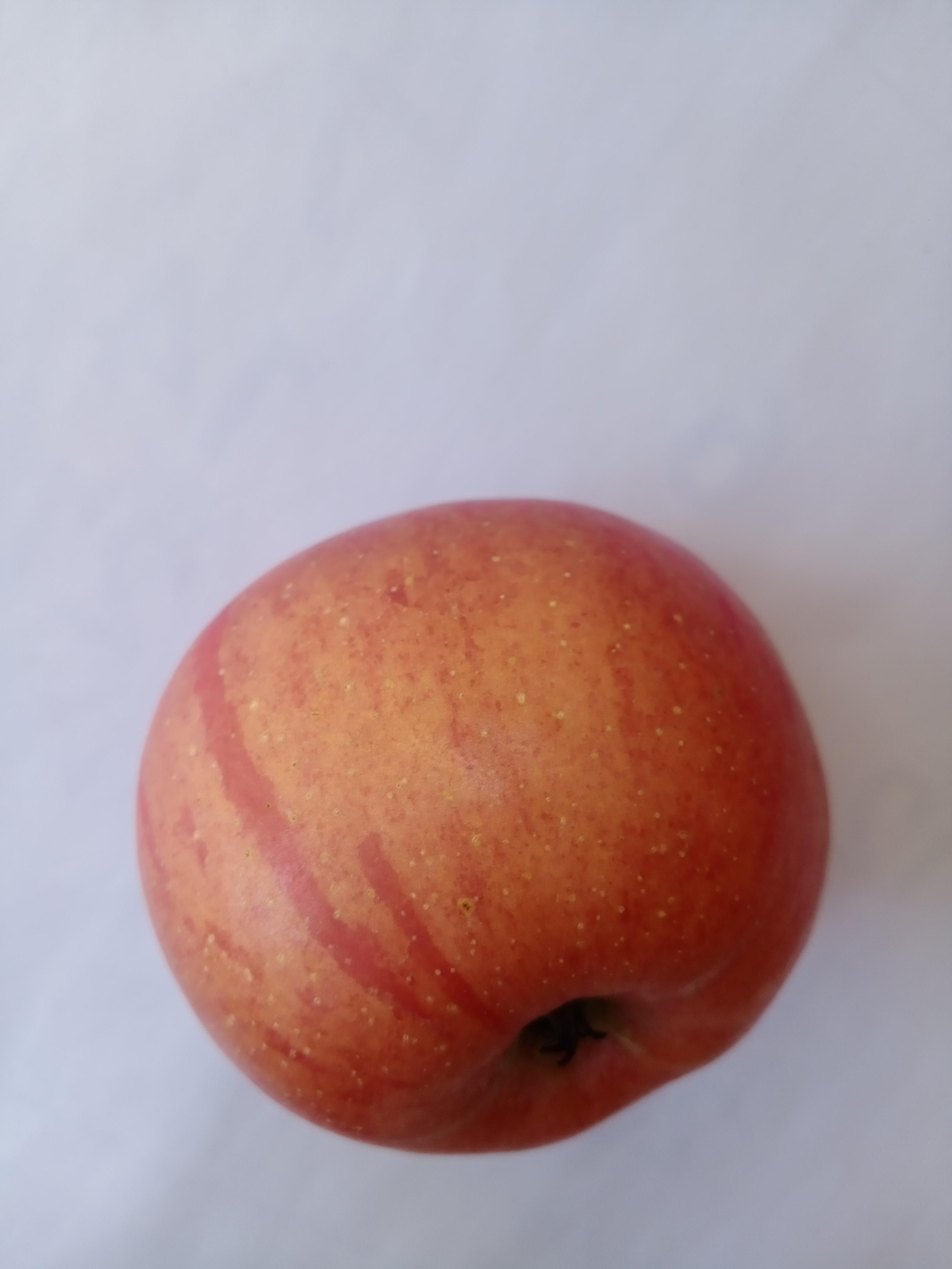Apple Ripe: (94, 471, 887, 1170)
